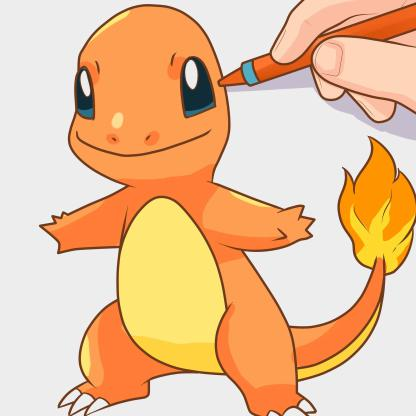Charmander: (36, 1, 416, 416)
